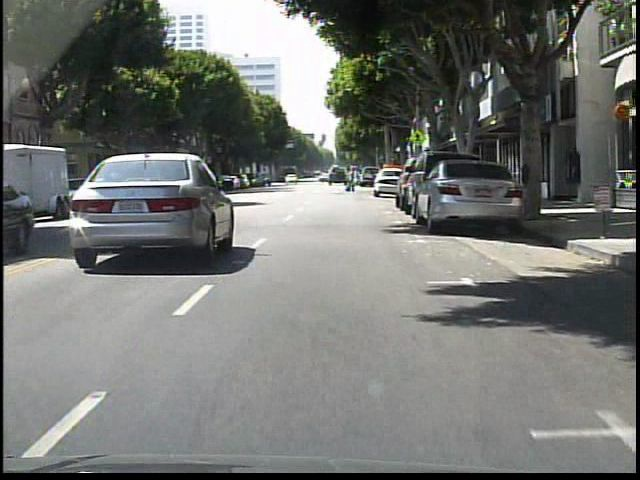person: (345, 165, 359, 192)
